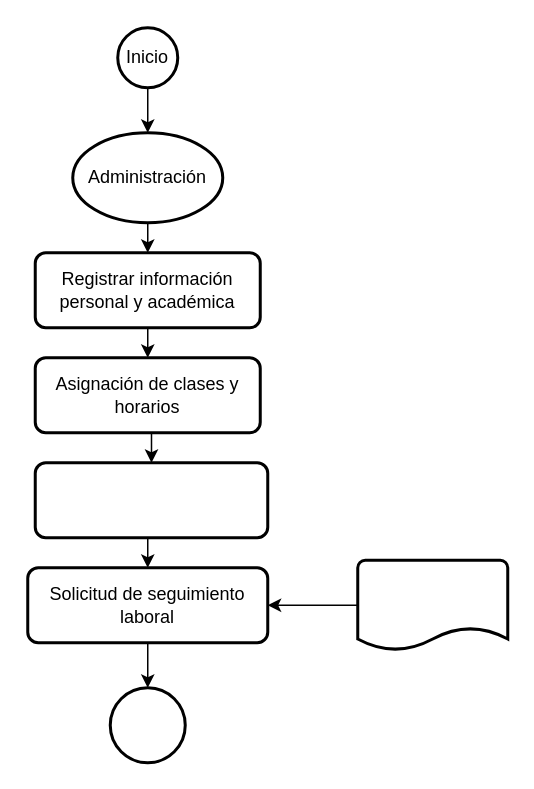
This 534x789 diagram has some shape labels left out. Each missing label, with the box of its shape:
Asignación de fechas de evaluaciones: (33, 460, 268, 538)
Datos laborales: (356, 558, 508, 651)
Finalizar: (108, 686, 186, 764)
